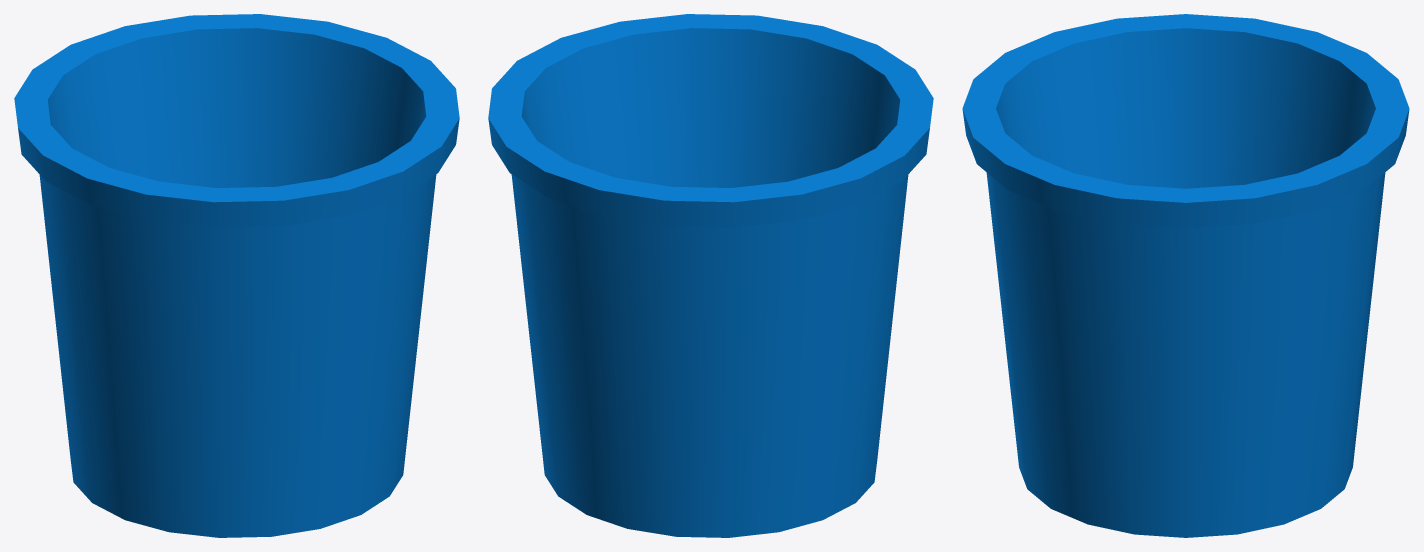
File: Tray_A.fbx
3 renders of one model, left to right at view 1: azimuth 30°, elevation 25°; view 2: azimuth 150°, elevation 25°; view 3: azimuth 270°, elevation 25°, orthographic.
Parts seen in each view (by area): view 1: Tray_A; view 2: Tray_A; view 3: Tray_A.
Part boxes in pixels (x1,y1,x2,y2): Tray_A: (14, 14, 459, 537); Tray_A: (488, 14, 933, 537); Tray_A: (962, 14, 1409, 537).
Size of the model in its own units: 7.25 by 6.43 by 7.25.
